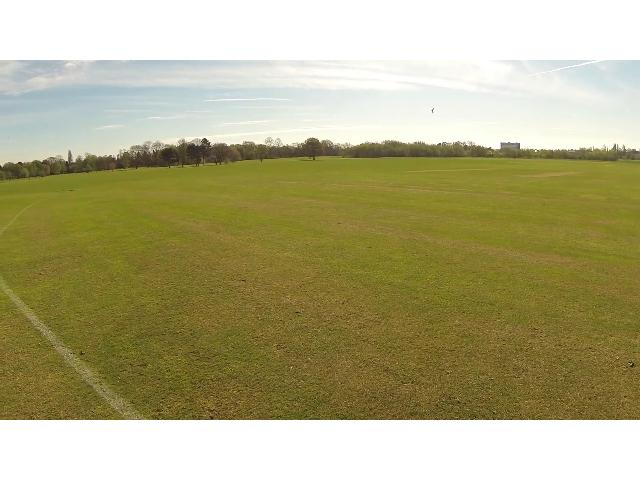Anti-Drone: (424, 104, 442, 118)
